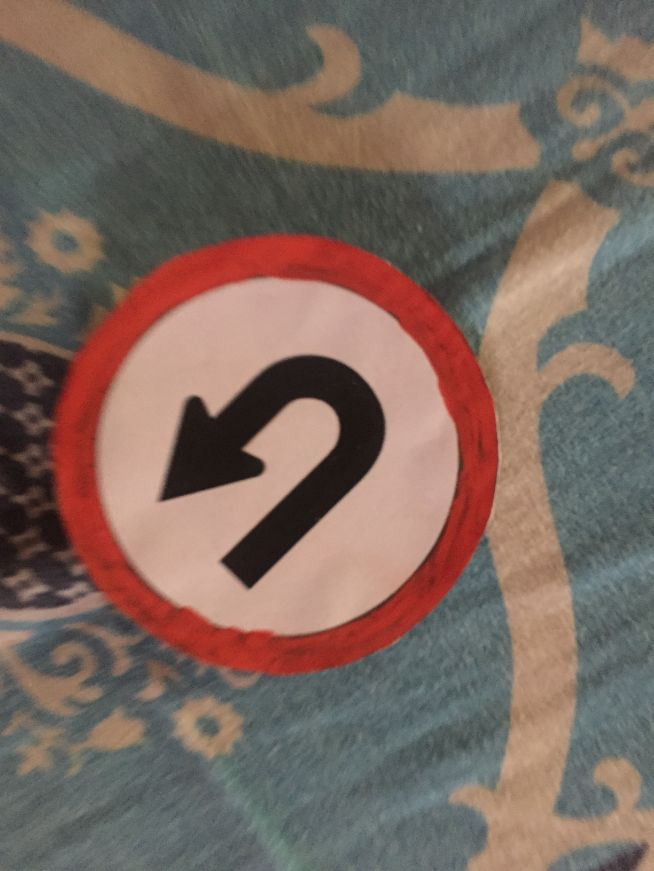u-turn: (62, 244, 466, 648)
